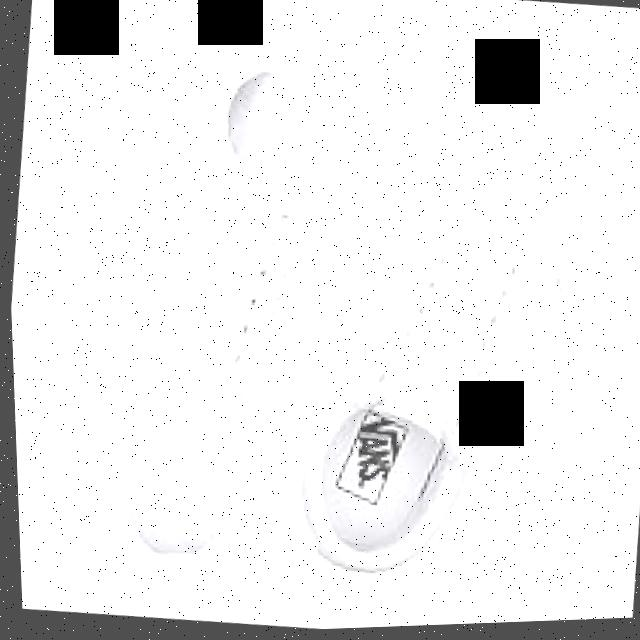shoe: (295, 68, 618, 611), (32, 36, 343, 577)
